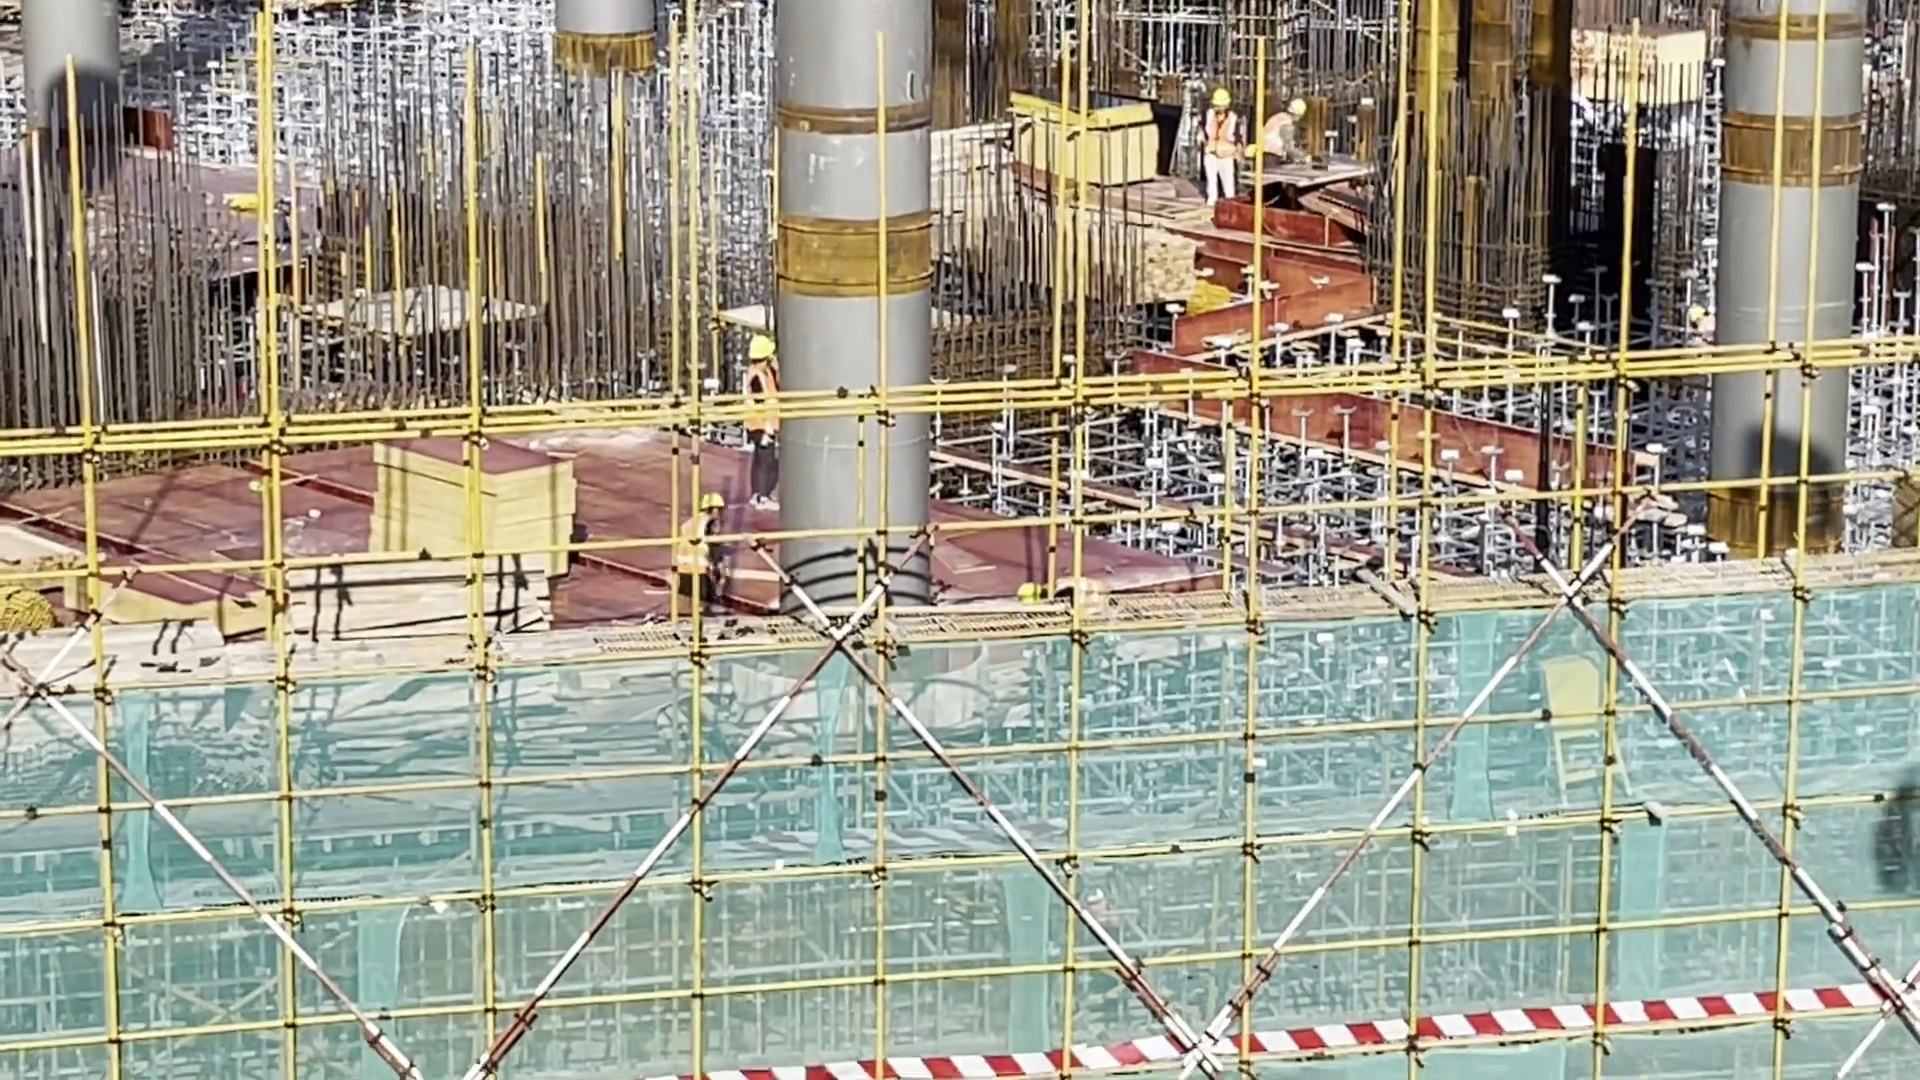board: (370, 398, 598, 599), (1002, 65, 1166, 199)
ebox: (1529, 649, 1644, 796)
helmet: (748, 327, 786, 372), (1011, 572, 1048, 613), (694, 487, 725, 519), (1280, 97, 1316, 120), (1208, 83, 1233, 112)
person: (741, 337, 797, 530), (679, 495, 738, 608), (1195, 84, 1244, 205), (1263, 91, 1318, 172)
vest: (737, 363, 789, 454), (677, 513, 726, 588), (1262, 113, 1302, 169), (1206, 110, 1239, 162)
wood: (238, 541, 562, 660)
